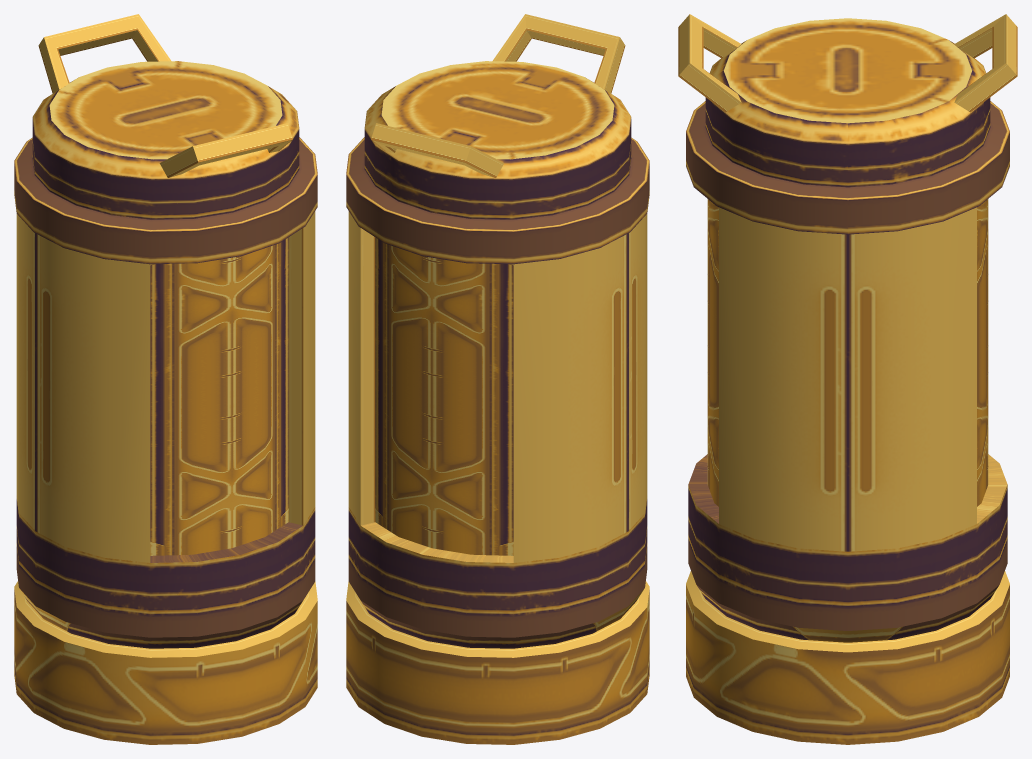
File: Prop_Barrel_Large.gltf
3 renders of one model, left to right at view 1: azimuth 30°, elevation 25°; view 2: azimuth 150°, elevation 25°; view 3: azimuth 270°, elevation 25°, orthographic. The views are drawn at different scales.
Parts seen in each view (by area): view 1: Prop_Barrel_Large; view 2: Prop_Barrel_Large; view 3: Prop_Barrel_Large.
Part boxes in pixels (left/top/right/bottom): Prop_Barrel_Large: left=14, top=14, right=317, bottom=744; Prop_Barrel_Large: left=346, top=14, right=649, bottom=744; Prop_Barrel_Large: left=678, top=14, right=1017, bottom=744.
Size of the model in its own units: 0.5078 by 1.1 by 0.532.
2 materials, 2 textured.
